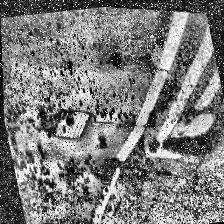pothole: (152, 95, 224, 165)
